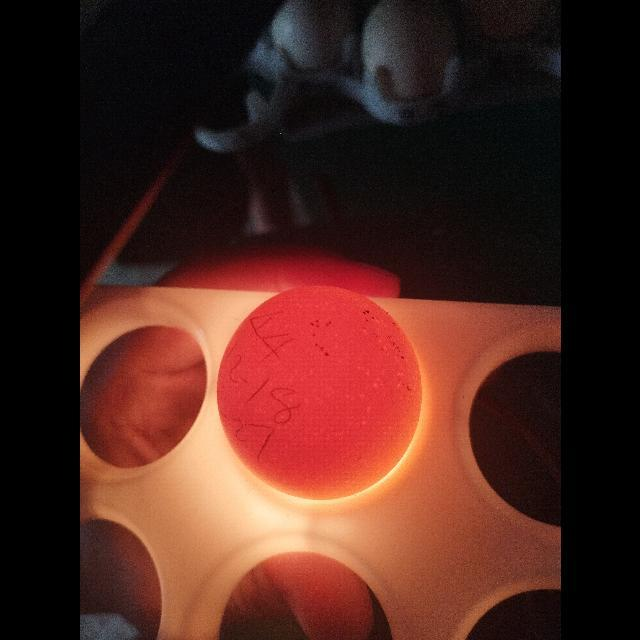Infertile: (214, 282, 428, 502)
